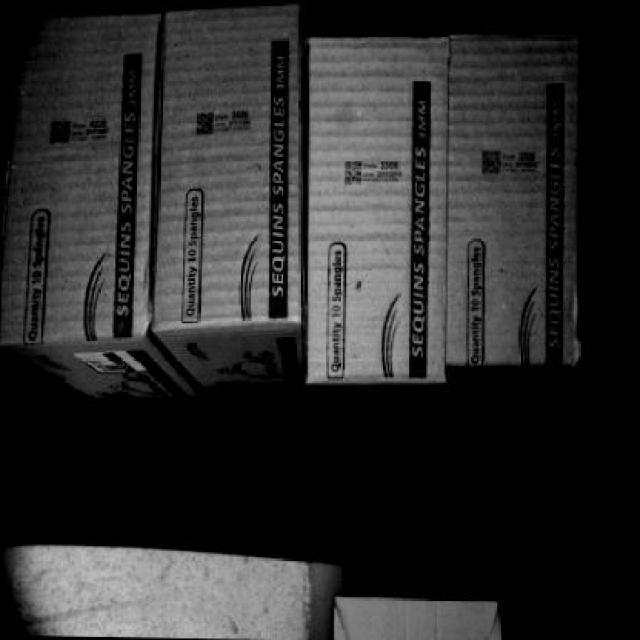box: (299, 38, 450, 386), (5, 16, 150, 347), (447, 36, 587, 375), (160, 6, 302, 329)
